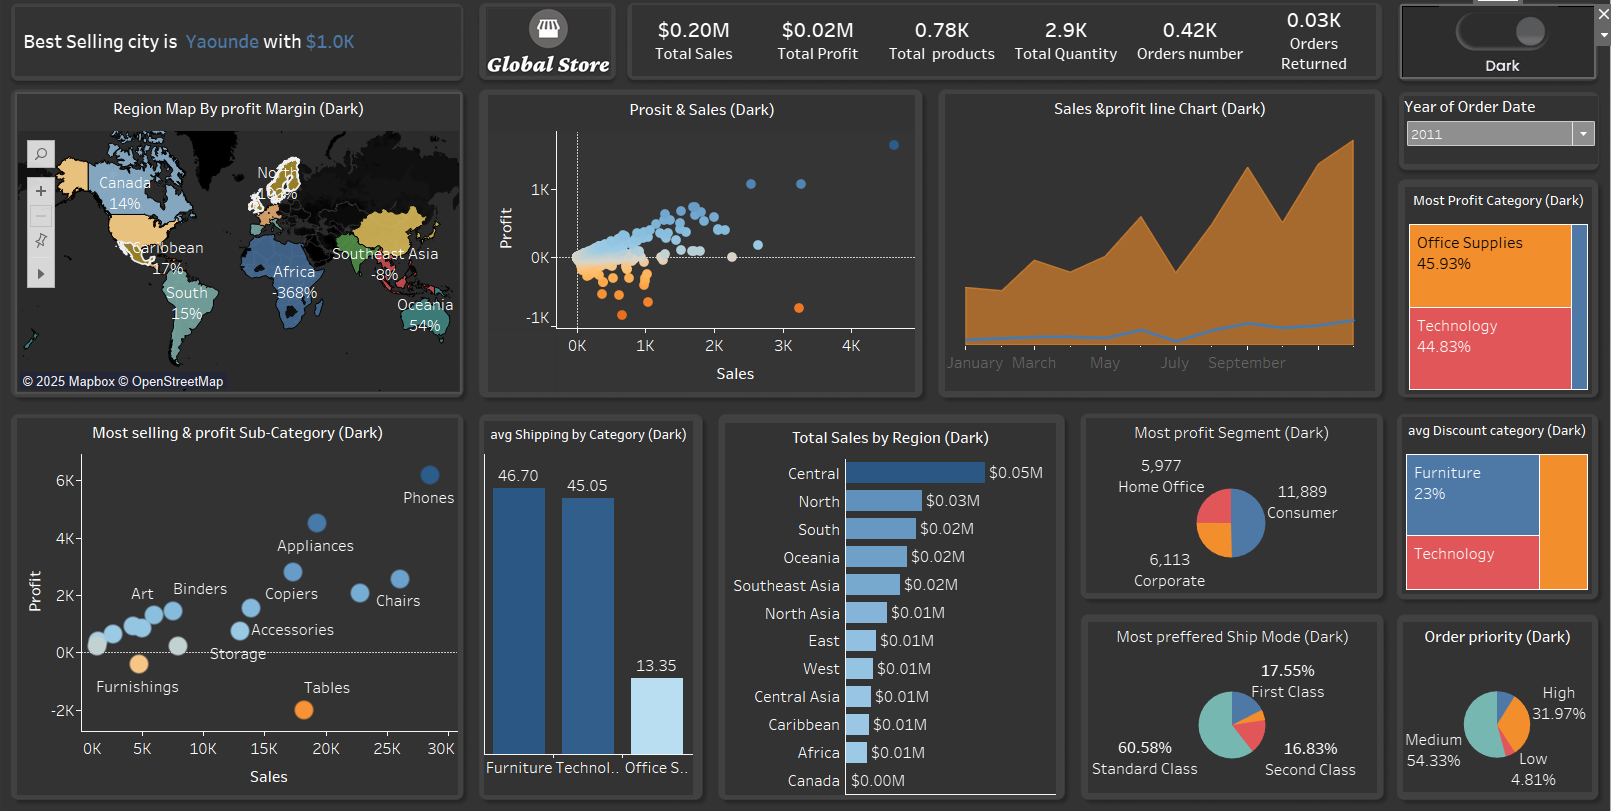

Layout of this report page (visuals, bound fields, positions):
{"tool":"tableau","page":{"name":"Global Store( Dark )","canvas":[1000,1000],"units":"permille","ordinal":3},"visuals":[{"type":"image","param":"Image/Dark Design .png","box":[4.8,9.4,990.3,981.2]},{"type":"worksheet","title":"Card (Dark)","mark":"Automatic","box":[395.1,24.7,449.3,83.4]},{"type":"dashboard-object","box":[860.1,25.9,115.8,83.4]},{"type":"worksheet","title":"City With most Sales (Dark)","mark":"Automatic","rows":["City"],"box":[22.9,27,269,81.1]},{"type":"image","param":"Image/2.png","box":[307,27,75.4,81.1]},{"type":"worksheet","title":"Region Map By profit Margin (Dark)","mark":"Multipolygon","box":[24.1,129.3,267.2,350.2]},{"type":"worksheet","title":"Sales &profit line Chart (Dark)","mark":"Automatic","rows":["Sales","Profit"],"cols":["Order Date"],"box":[584.2,129.3,259.5,349]},{"type":"worksheet","title":"Prosit & Sales (Dark)","mark":"Automatic","rows":["Profit"],"cols":["Sales"],"box":[308.2,130.4,258.1,349]},{"type":"filter","title":"Sales &profit line Chart (Dark)","param":"[federated.12zf0ef0l0rug40zyry801hxga2e].[yr:Order Date:ok]","box":[861.3,131.6,117,79.9]},{"type":"worksheet","title":"Most Profit Category (Dark)","mark":"Automatic","box":[861.9,238.5,112.8,243.2]},{"type":"worksheet","title":"avg Discount category (Dark)","mark":"Automatic","box":[860.1,508.8,114.6,208]},{"type":"worksheet","title":"Most selling & profit Sub-Category (Dark)","mark":"Automatic","rows":["Profit"],"cols":["Sales"],"box":[24.1,510,266,443]},{"type":"worksheet","title":"Most profit Segment (Dark)","mark":"Pie","box":[669.3,510,175.6,205.6]},{"type":"worksheet","title":"avg Shipping by Category (Dark)","mark":"Automatic","rows":["Shipping Cost"],"cols":["Category"],"box":[305.8,513.5,126.1,439.5]},{"type":"worksheet","title":"Total Sales by Region (Dark)","mark":"Automatic","rows":["Region"],"cols":["Sales"],"box":[451.4,515.9,199.8,437.1]},{"type":"worksheet","title":"Most preffered Ship Mode (Dark)","mark":"Pie","box":[670.5,749.7,174.4,200.9]},{"type":"worksheet","title":"Order priority (Dark)","mark":"Pie","box":[860.6,749.7,114.1,199.8]}]}

Visuals, with their boxes on the dashboard's canvas, which has no fixed pixel size, in thousandths of its width and height (x1, y1, x2, y2). These are canvas units, not pixel positions in the 1611x811 screenshot, which may show the page scaled, cropped or inside an application window:
image: (x1=5, y1=9, x2=995, y2=991)
"Card (Dark)" worksheet: (x1=395, y1=25, x2=844, y2=108)
dashboard-object: (x1=860, y1=26, x2=976, y2=109)
"City With most Sales (Dark)" worksheet: (x1=23, y1=27, x2=292, y2=108)
image: (x1=307, y1=27, x2=382, y2=108)
"Region Map By profit Margin (Dark)" worksheet (Multipolygon marks): (x1=24, y1=129, x2=291, y2=480)
"Sales &profit line Chart (Dark)" worksheet: (x1=584, y1=129, x2=844, y2=478)
"Prosit & Sales (Dark)" worksheet: (x1=308, y1=130, x2=566, y2=479)
"Sales &profit line Chart (Dark)" filter: (x1=861, y1=132, x2=978, y2=212)
"Most Profit Category (Dark)" worksheet: (x1=862, y1=238, x2=975, y2=482)
"avg Discount category (Dark)" worksheet: (x1=860, y1=509, x2=975, y2=717)
"Most selling & profit Sub-Category (Dark)" worksheet: (x1=24, y1=510, x2=290, y2=953)
"Most profit Segment (Dark)" worksheet (Pie marks): (x1=669, y1=510, x2=845, y2=716)
"avg Shipping by Category (Dark)" worksheet: (x1=306, y1=514, x2=432, y2=953)
"Total Sales by Region (Dark)" worksheet: (x1=451, y1=516, x2=651, y2=953)
"Most preffered Ship Mode (Dark)" worksheet (Pie marks): (x1=670, y1=750, x2=845, y2=951)
"Order priority (Dark)" worksheet (Pie marks): (x1=861, y1=750, x2=975, y2=950)
